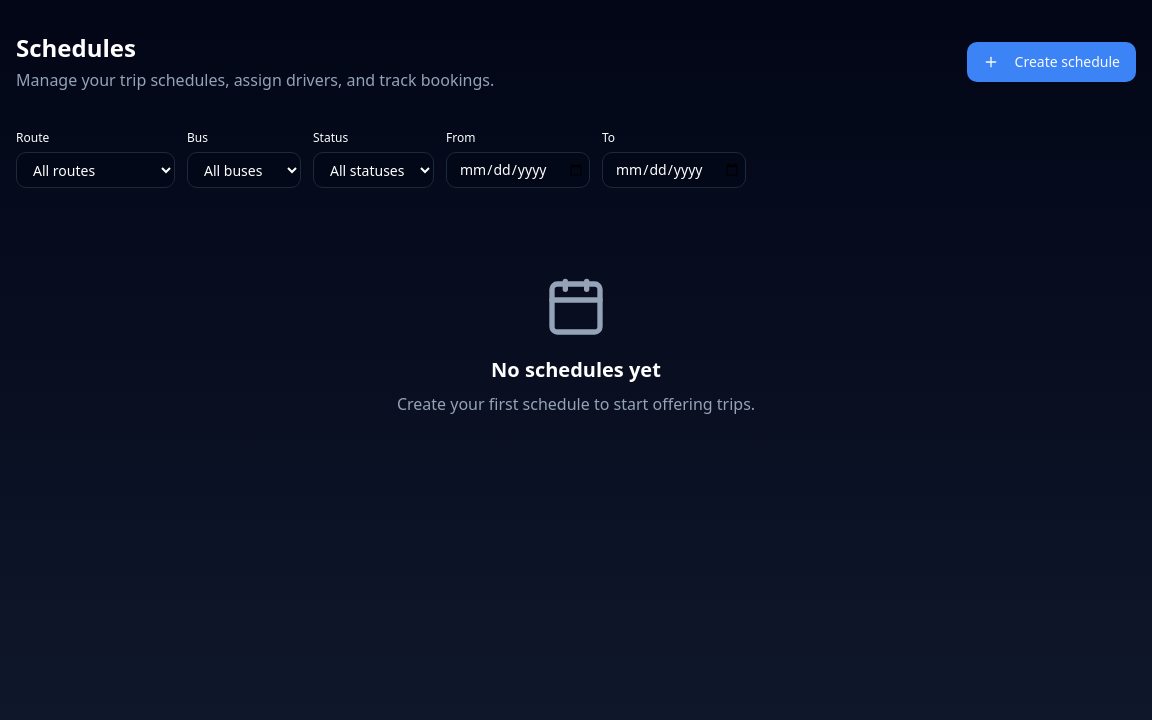
Test: ProviderSchedulesPage › create schedule › opens create dialog on button click
Click the button "Create schedule". click: [1051, 62]
box: [967,42,1136,82]
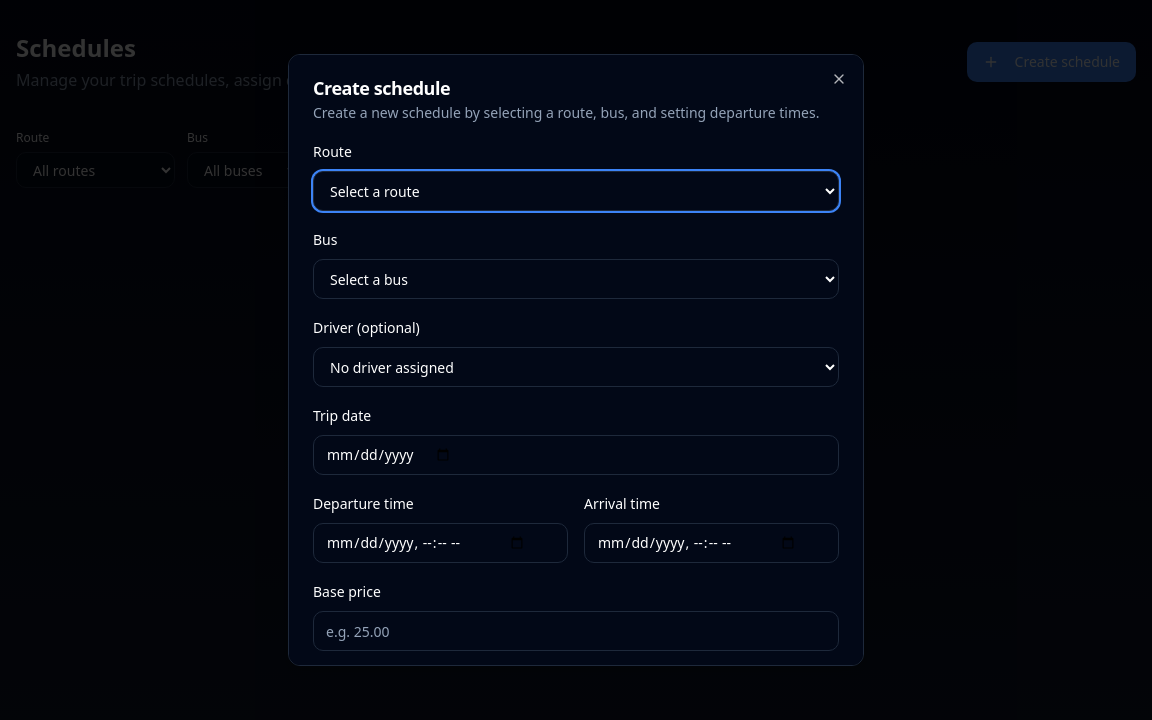
Expected: the heading "Create schedule" is shown, [313,76,450,100]
